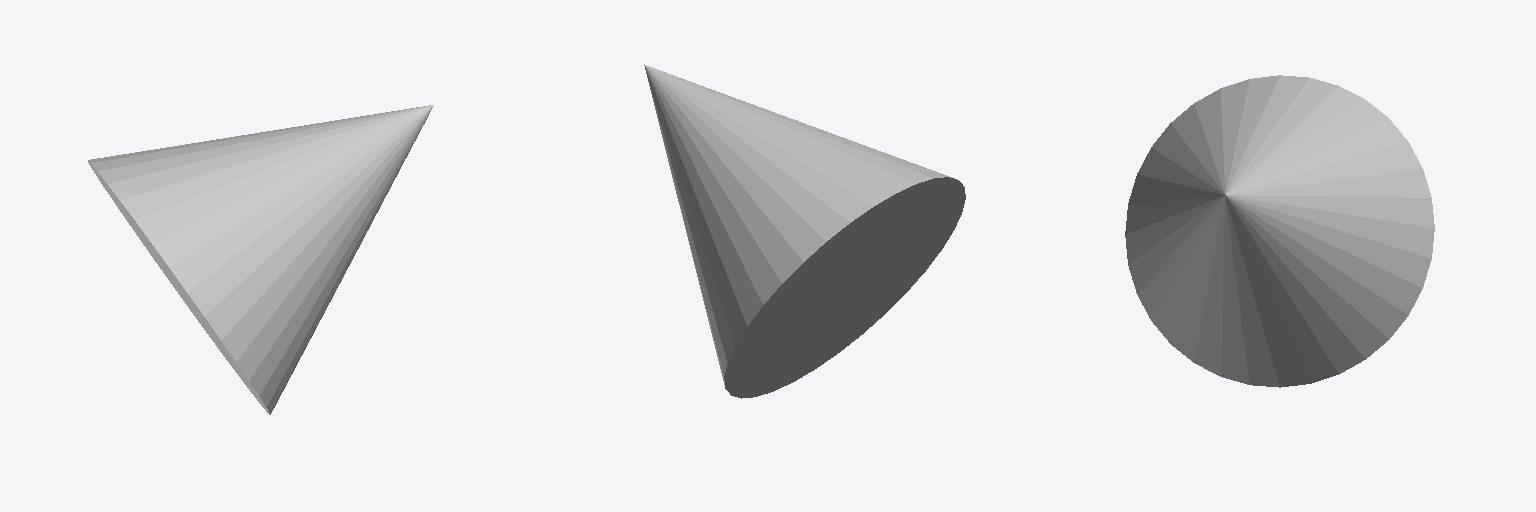
Rendered from rotated_cone.obj.
3 views of the same model, side by side, from view 1: azimuth 30°, elevation 25°; view 2: azimuth 150°, elevation 25°; view 3: azimuth 270°, elevation 25° (orthographic).
Parts seen in each view (by area): view 1: Cone; view 2: Cone; view 3: Cone.
Boxes of the visible parts, x1,y1,x2,y2 form: Cone: [88, 105, 433, 414]; Cone: [644, 65, 965, 398]; Cone: [1125, 75, 1434, 387].
Size of the model in its own units: 2.22 by 1.89 by 1.97.